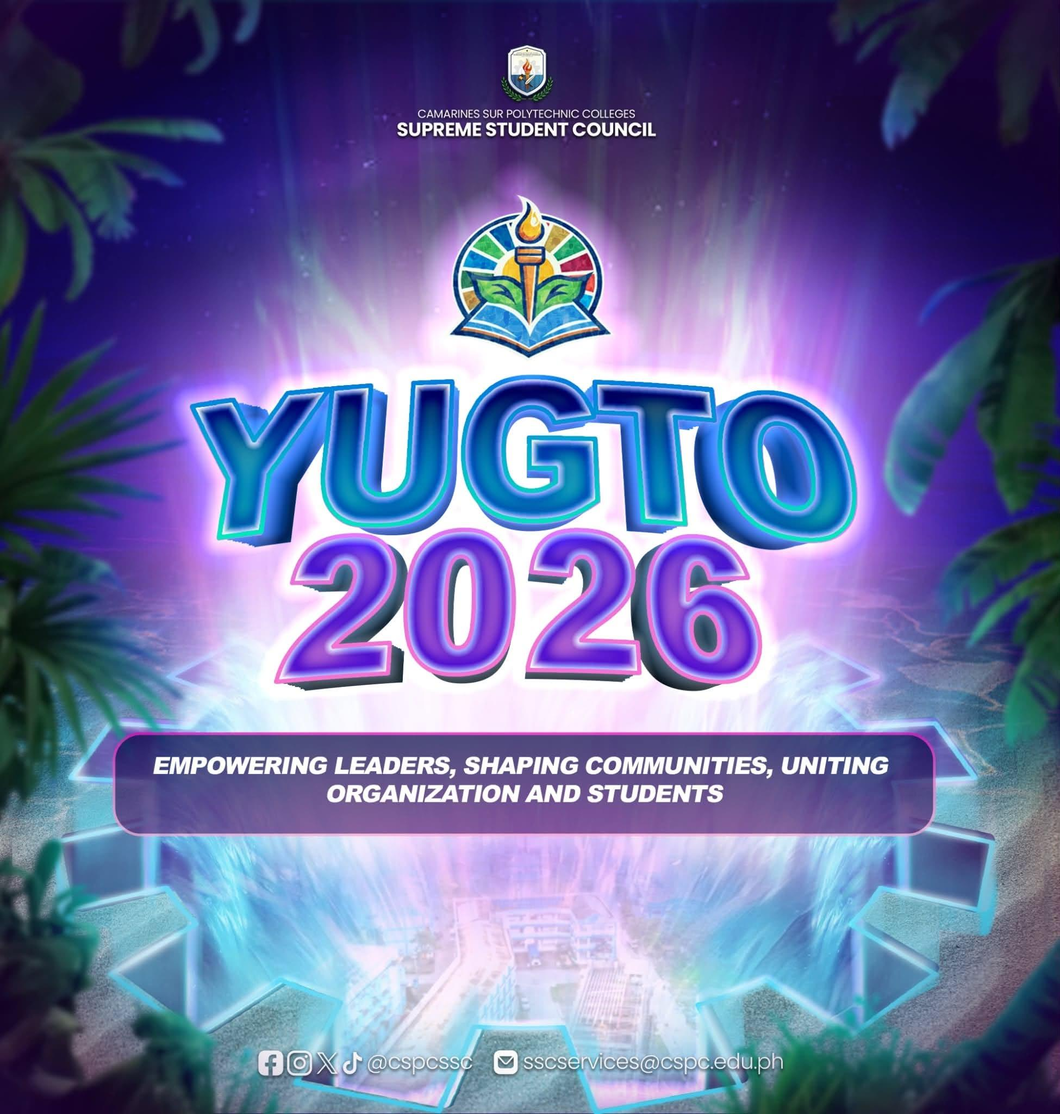embellishment: (256, 1047, 365, 1078), (492, 1047, 520, 1078)
logo: (439, 190, 618, 361), (499, 44, 556, 104)
text: (182, 367, 867, 706), (147, 749, 898, 817), (392, 105, 662, 144), (521, 1052, 787, 1074), (368, 1055, 476, 1076)
underlay: (108, 728, 940, 841)
